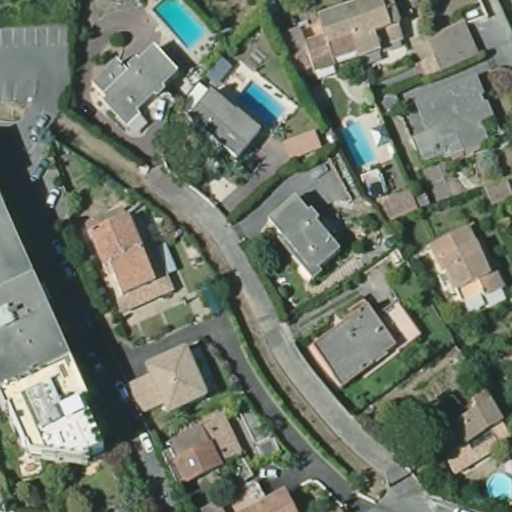pool: (151, 1, 210, 49), (233, 81, 285, 131), (337, 117, 379, 168), (486, 471, 512, 501)
